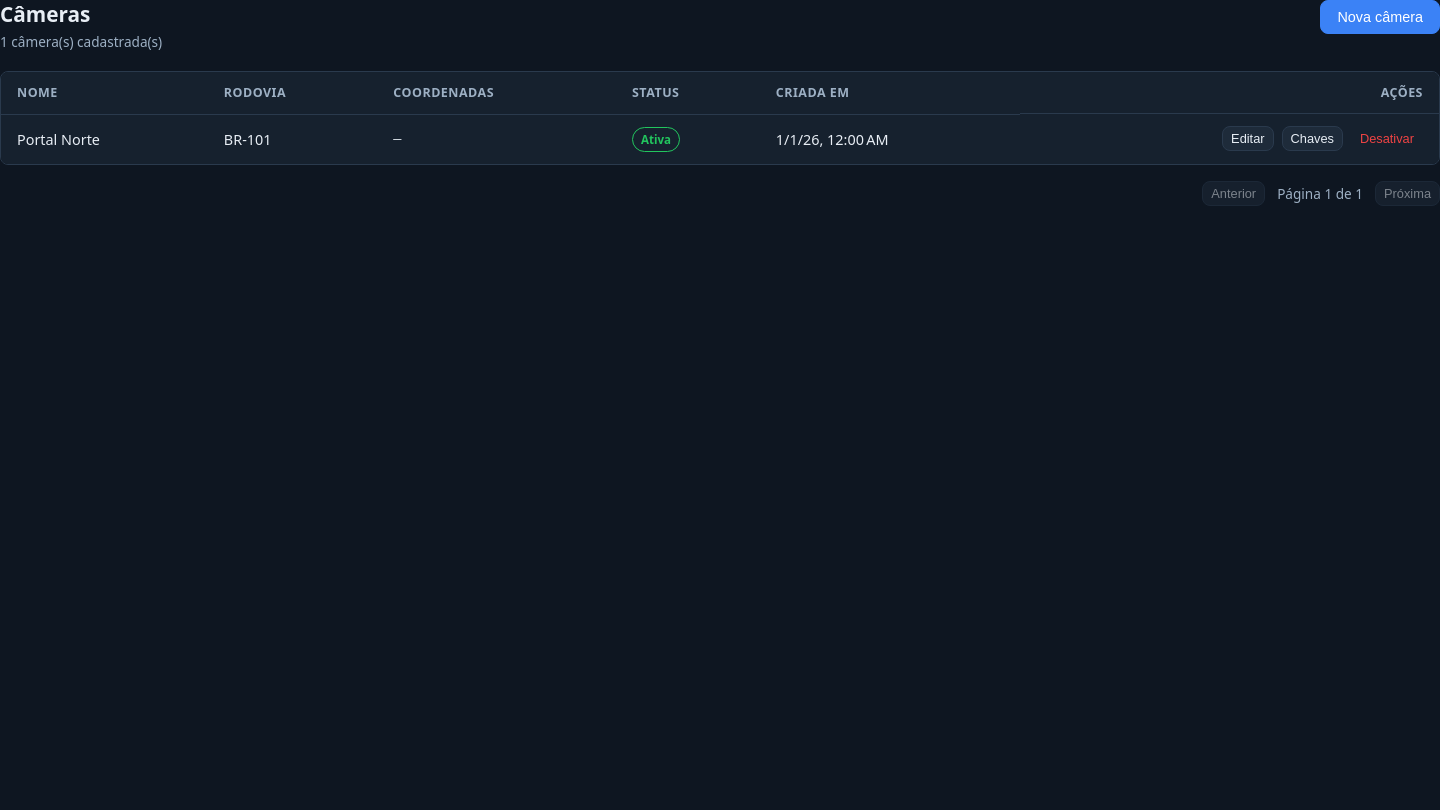
Scenario: CamerasComponent › abre o modal de chaves e lista as chaves da câmera
Click the button "Chaves" at (1312, 138), box [1282, 126, 1343, 151]
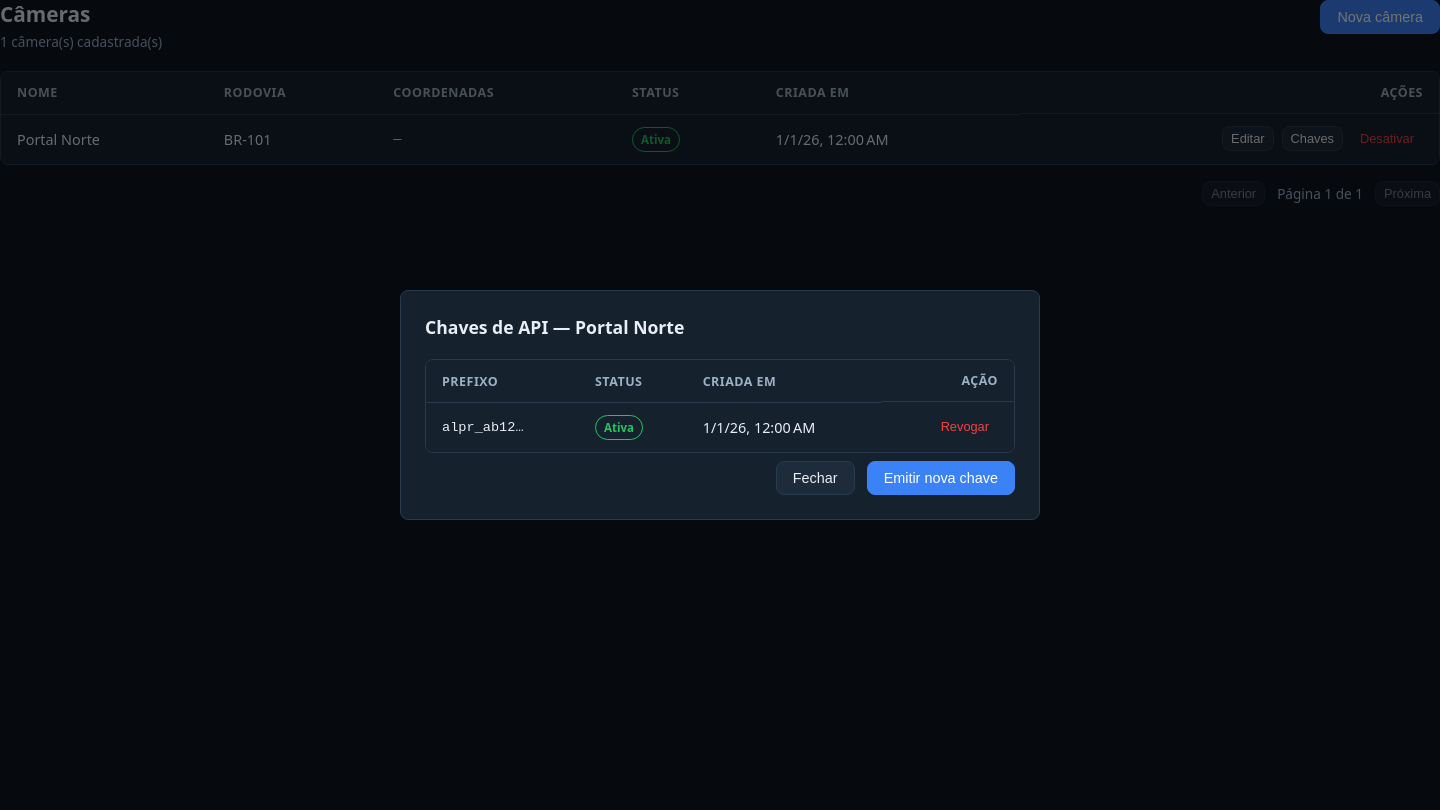
Expected: the text "Chaves de API — Portal Norte" is shown, [425, 315, 684, 339]
Expected: the text "alpr_ab12" is shown, [442, 420, 524, 435]
